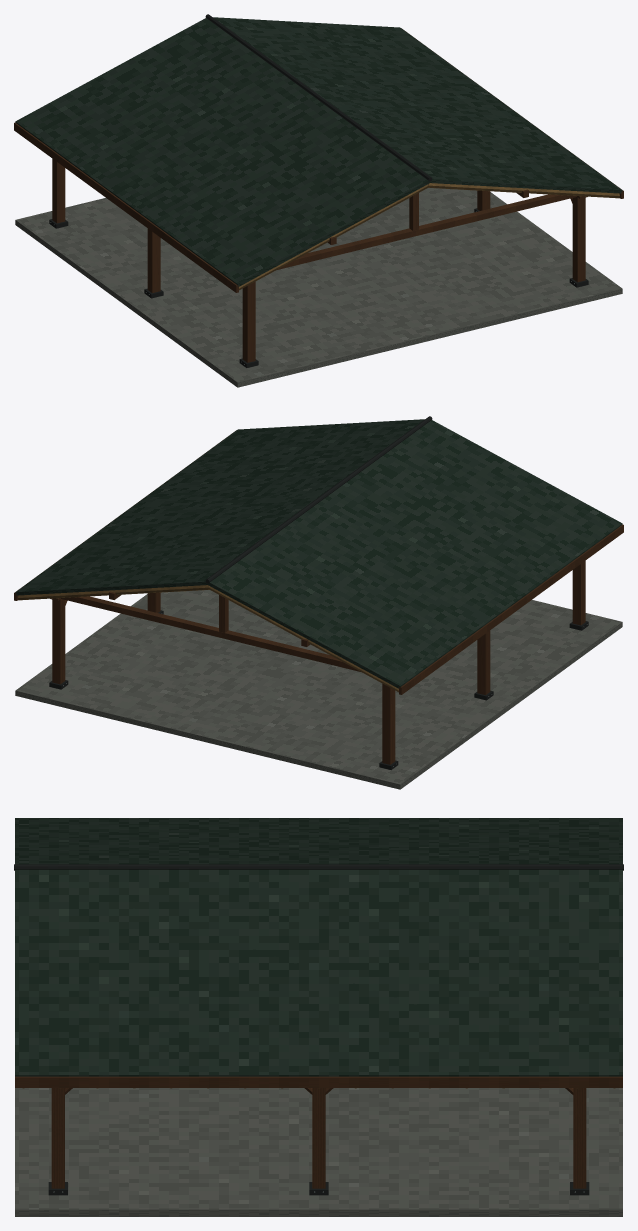
The model's file is level_camp_pavilion.glb.
3 views of the same model, one above another, from view 1: azimuth 30°, elevation 25°; view 2: azimuth 150°, elevation 25°; view 3: azimuth 270°, elevation 25° (orthographic). The views are drawn at different scales.
Visible parts, largest first — view 1: level_camp_pavilion; view 2: level_camp_pavilion; view 3: level_camp_pavilion.
Part boxes in pixels (x1,y1,x2,y2): level_camp_pavilion: [14, 14, 623, 387]; level_camp_pavilion: [14, 416, 623, 789]; level_camp_pavilion: [14, 818, 623, 1216].
Size of the model in its own units: 14.1 by 5.68 by 14.04.
6 materials, 6 textured.
